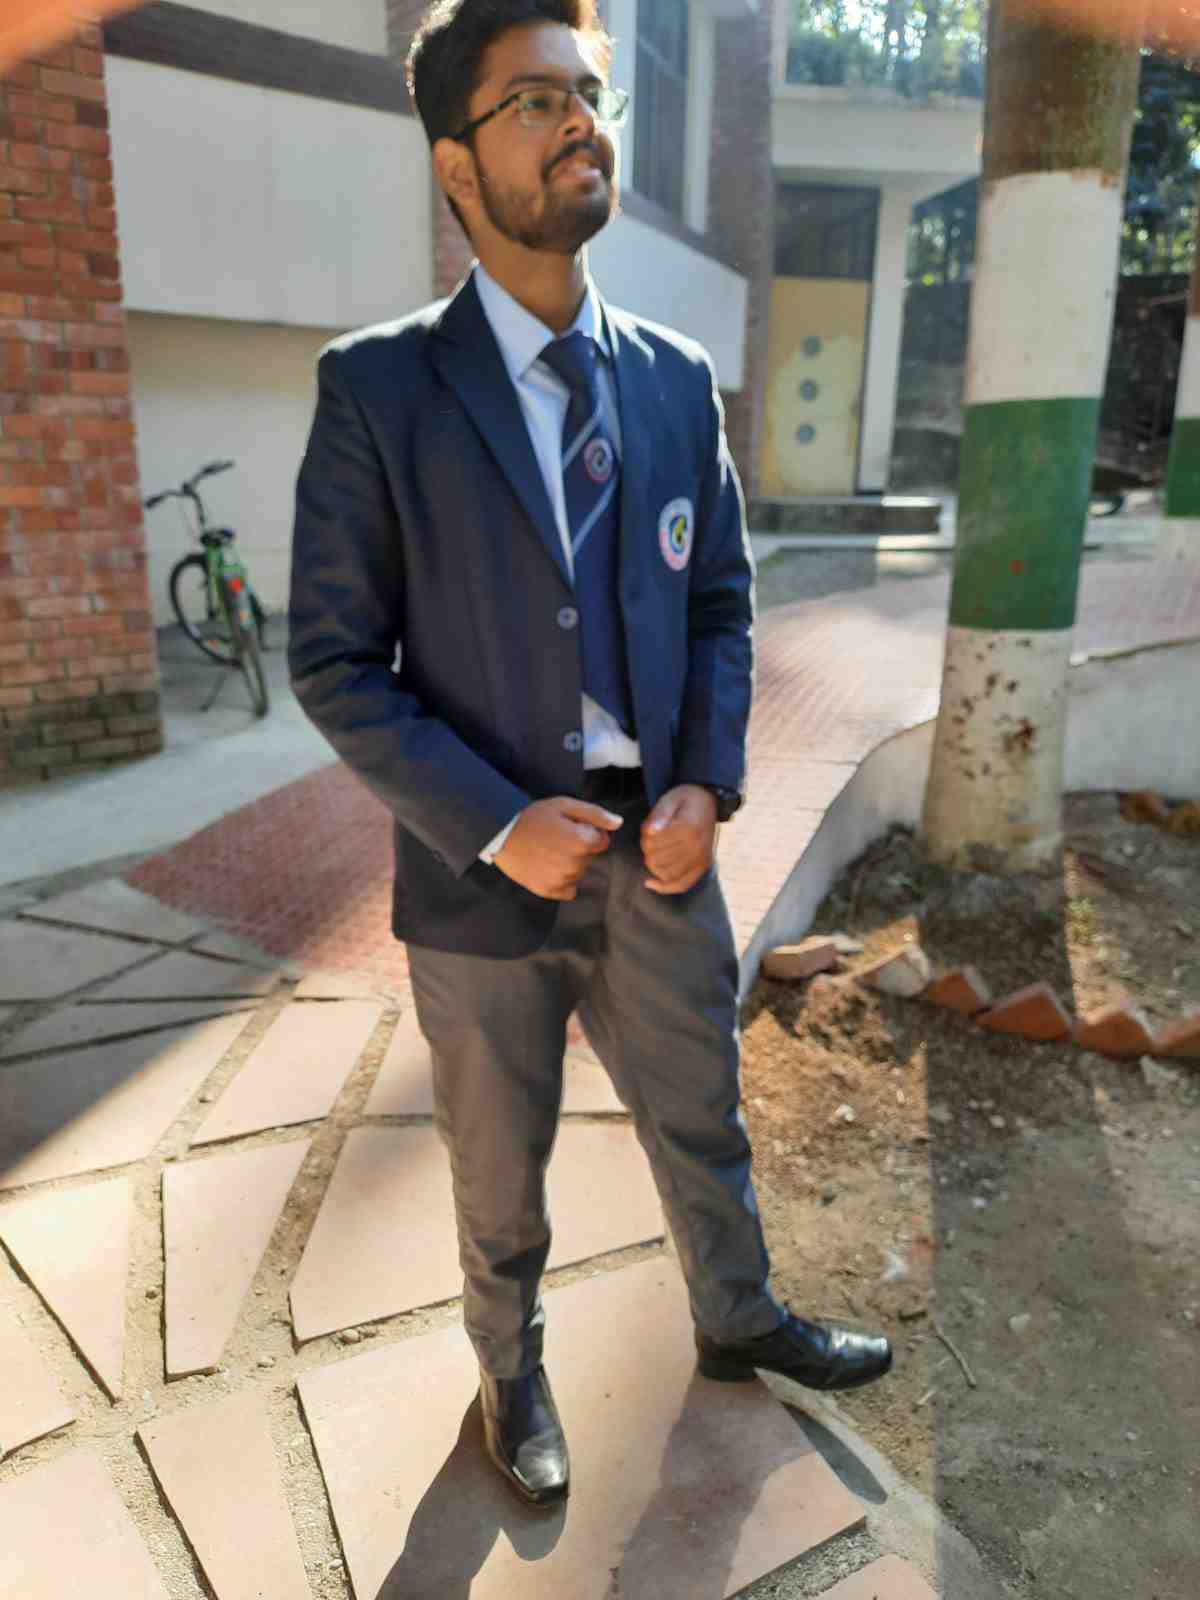blazer: (297, 286, 795, 931)
pant: (393, 797, 843, 1364)
tie: (502, 354, 676, 723)
